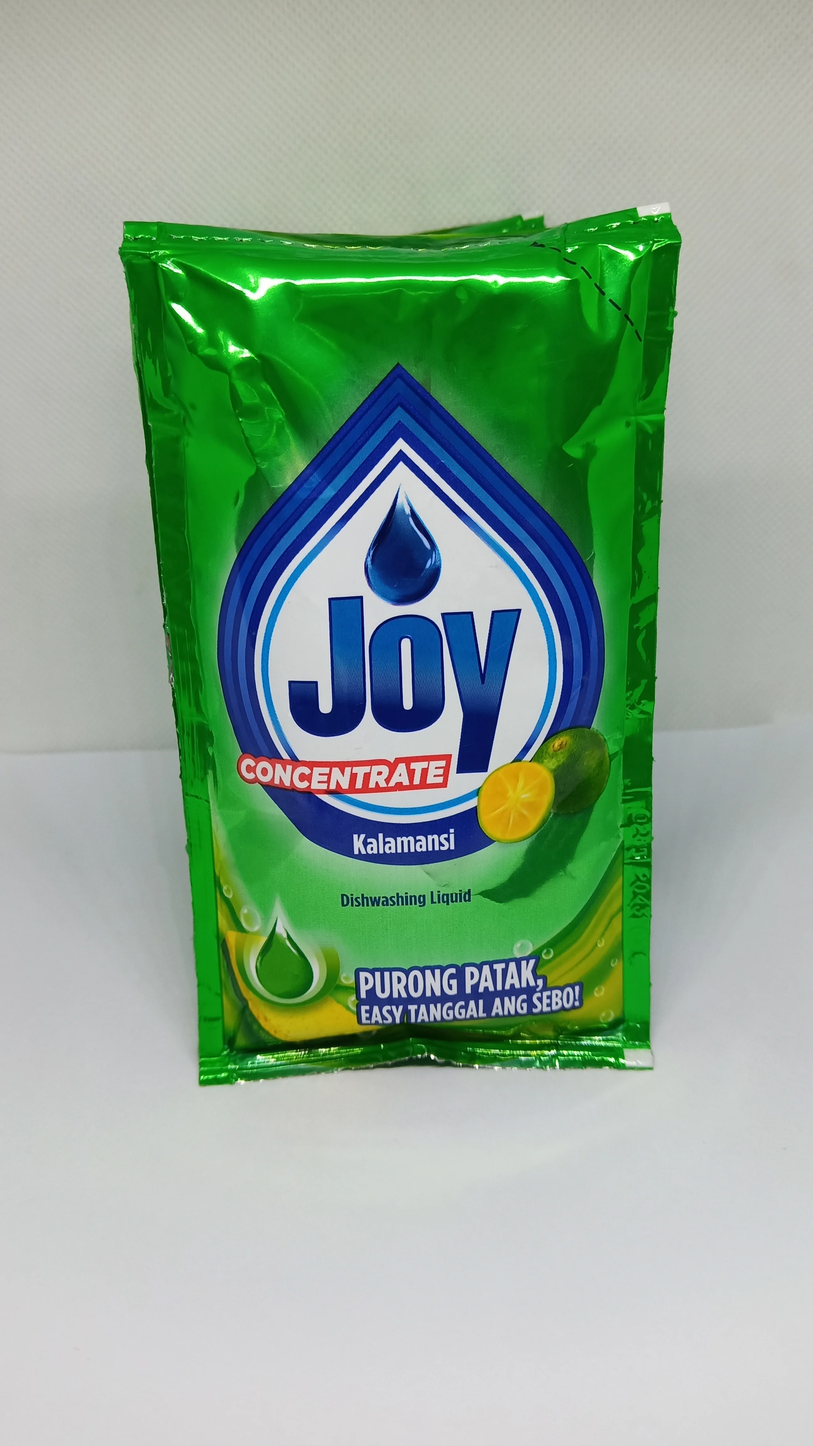toxic_waste: (125, 222, 646, 1061)
